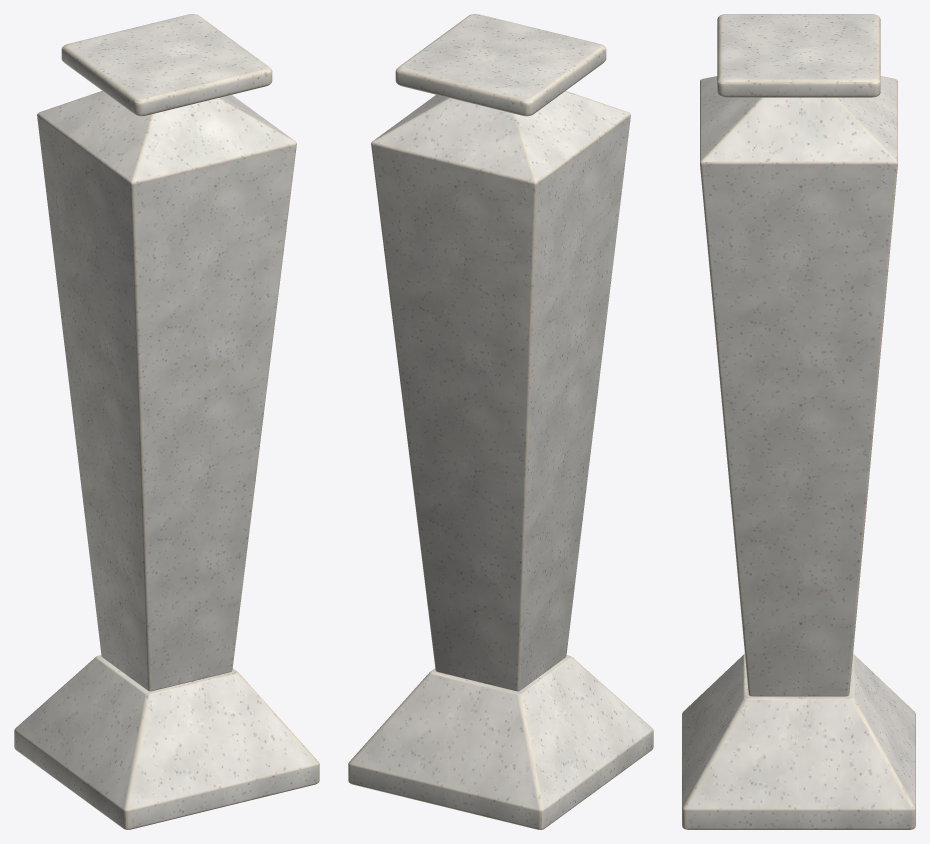
Rendered from kral_bily.glb.
The picture shows the model from 3 angles, left to right: view 1: azimuth 30°, elevation 25°; view 2: azimuth 150°, elevation 25°; view 3: azimuth 270°, elevation 25°; orthographic projection. The views are drawn at different scales.
Visible parts, largest first — view 1: king_white; view 2: king_white; view 3: king_white.
Boxes of the visible parts, box(x1,y1,x2,y2) form: king_white: box(14, 14, 319, 829); king_white: box(348, 14, 653, 829); king_white: box(682, 14, 915, 829).
Size of the model in its own units: 0.028 by 0.0972 by 0.028.
2 materials, 2 textured.
